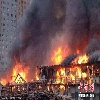fire: (53, 48, 93, 84), (1, 55, 28, 84), (35, 67, 39, 81)
